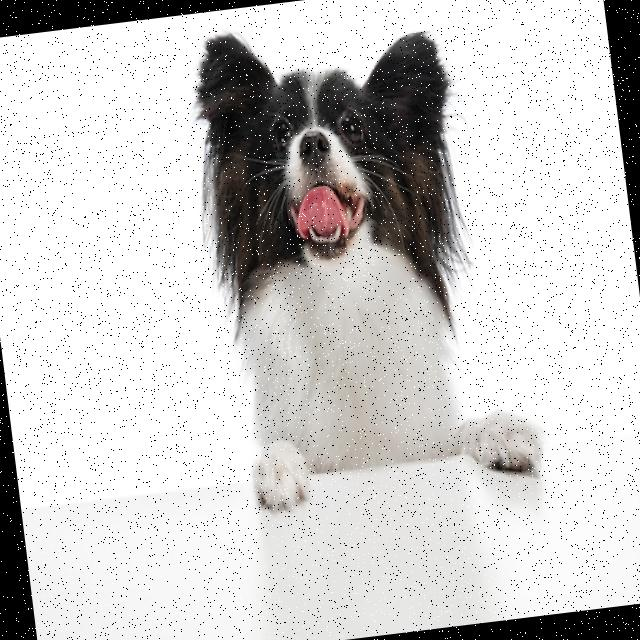Dog: (186, 2, 548, 510)
